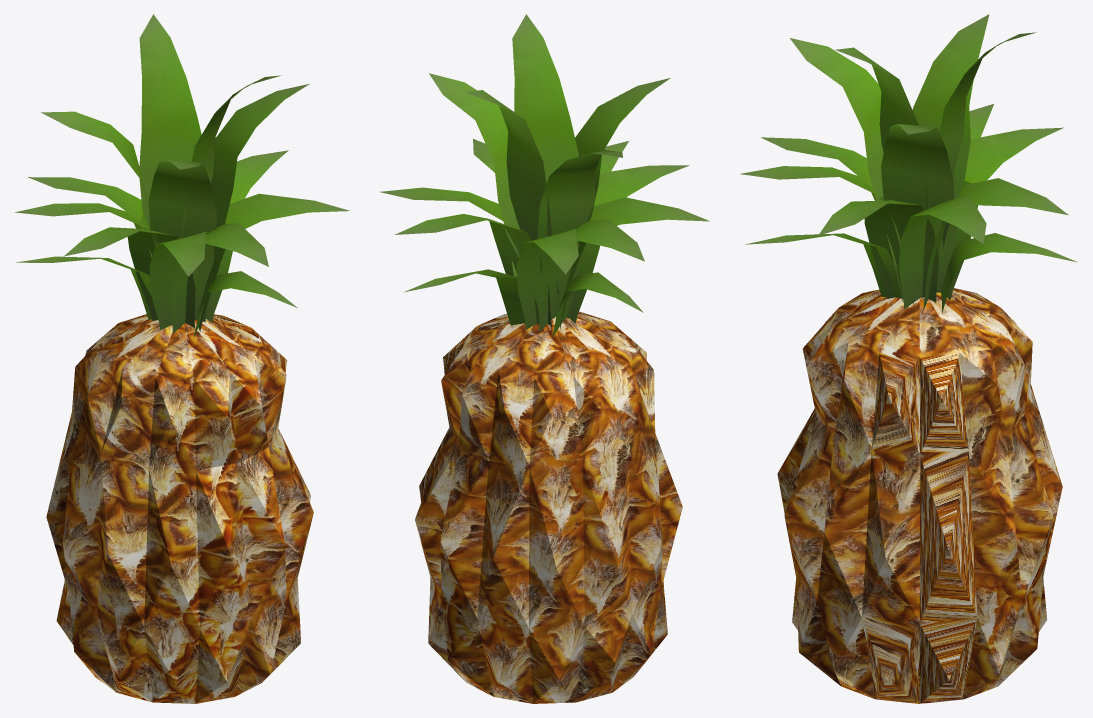
The model's file is Pineapple.fbx.
3 renders of one model, left to right at view 1: azimuth 30°, elevation 25°; view 2: azimuth 150°, elevation 25°; view 3: azimuth 270°, elevation 25°, orthographic. The views are drawn at different scales.
Parts seen in each view (by area): view 1: Капсула; view 2: Капсула; view 3: Капсула.
Boxes of the visible parts, x1,y1,x2,y2 form: Капсула: (14, 14, 349, 703); Капсула: (380, 14, 709, 703); Капсула: (740, 14, 1077, 703).
Size of the model in its own units: 128 by 276 by 127.
2 materials, 2 textured.
